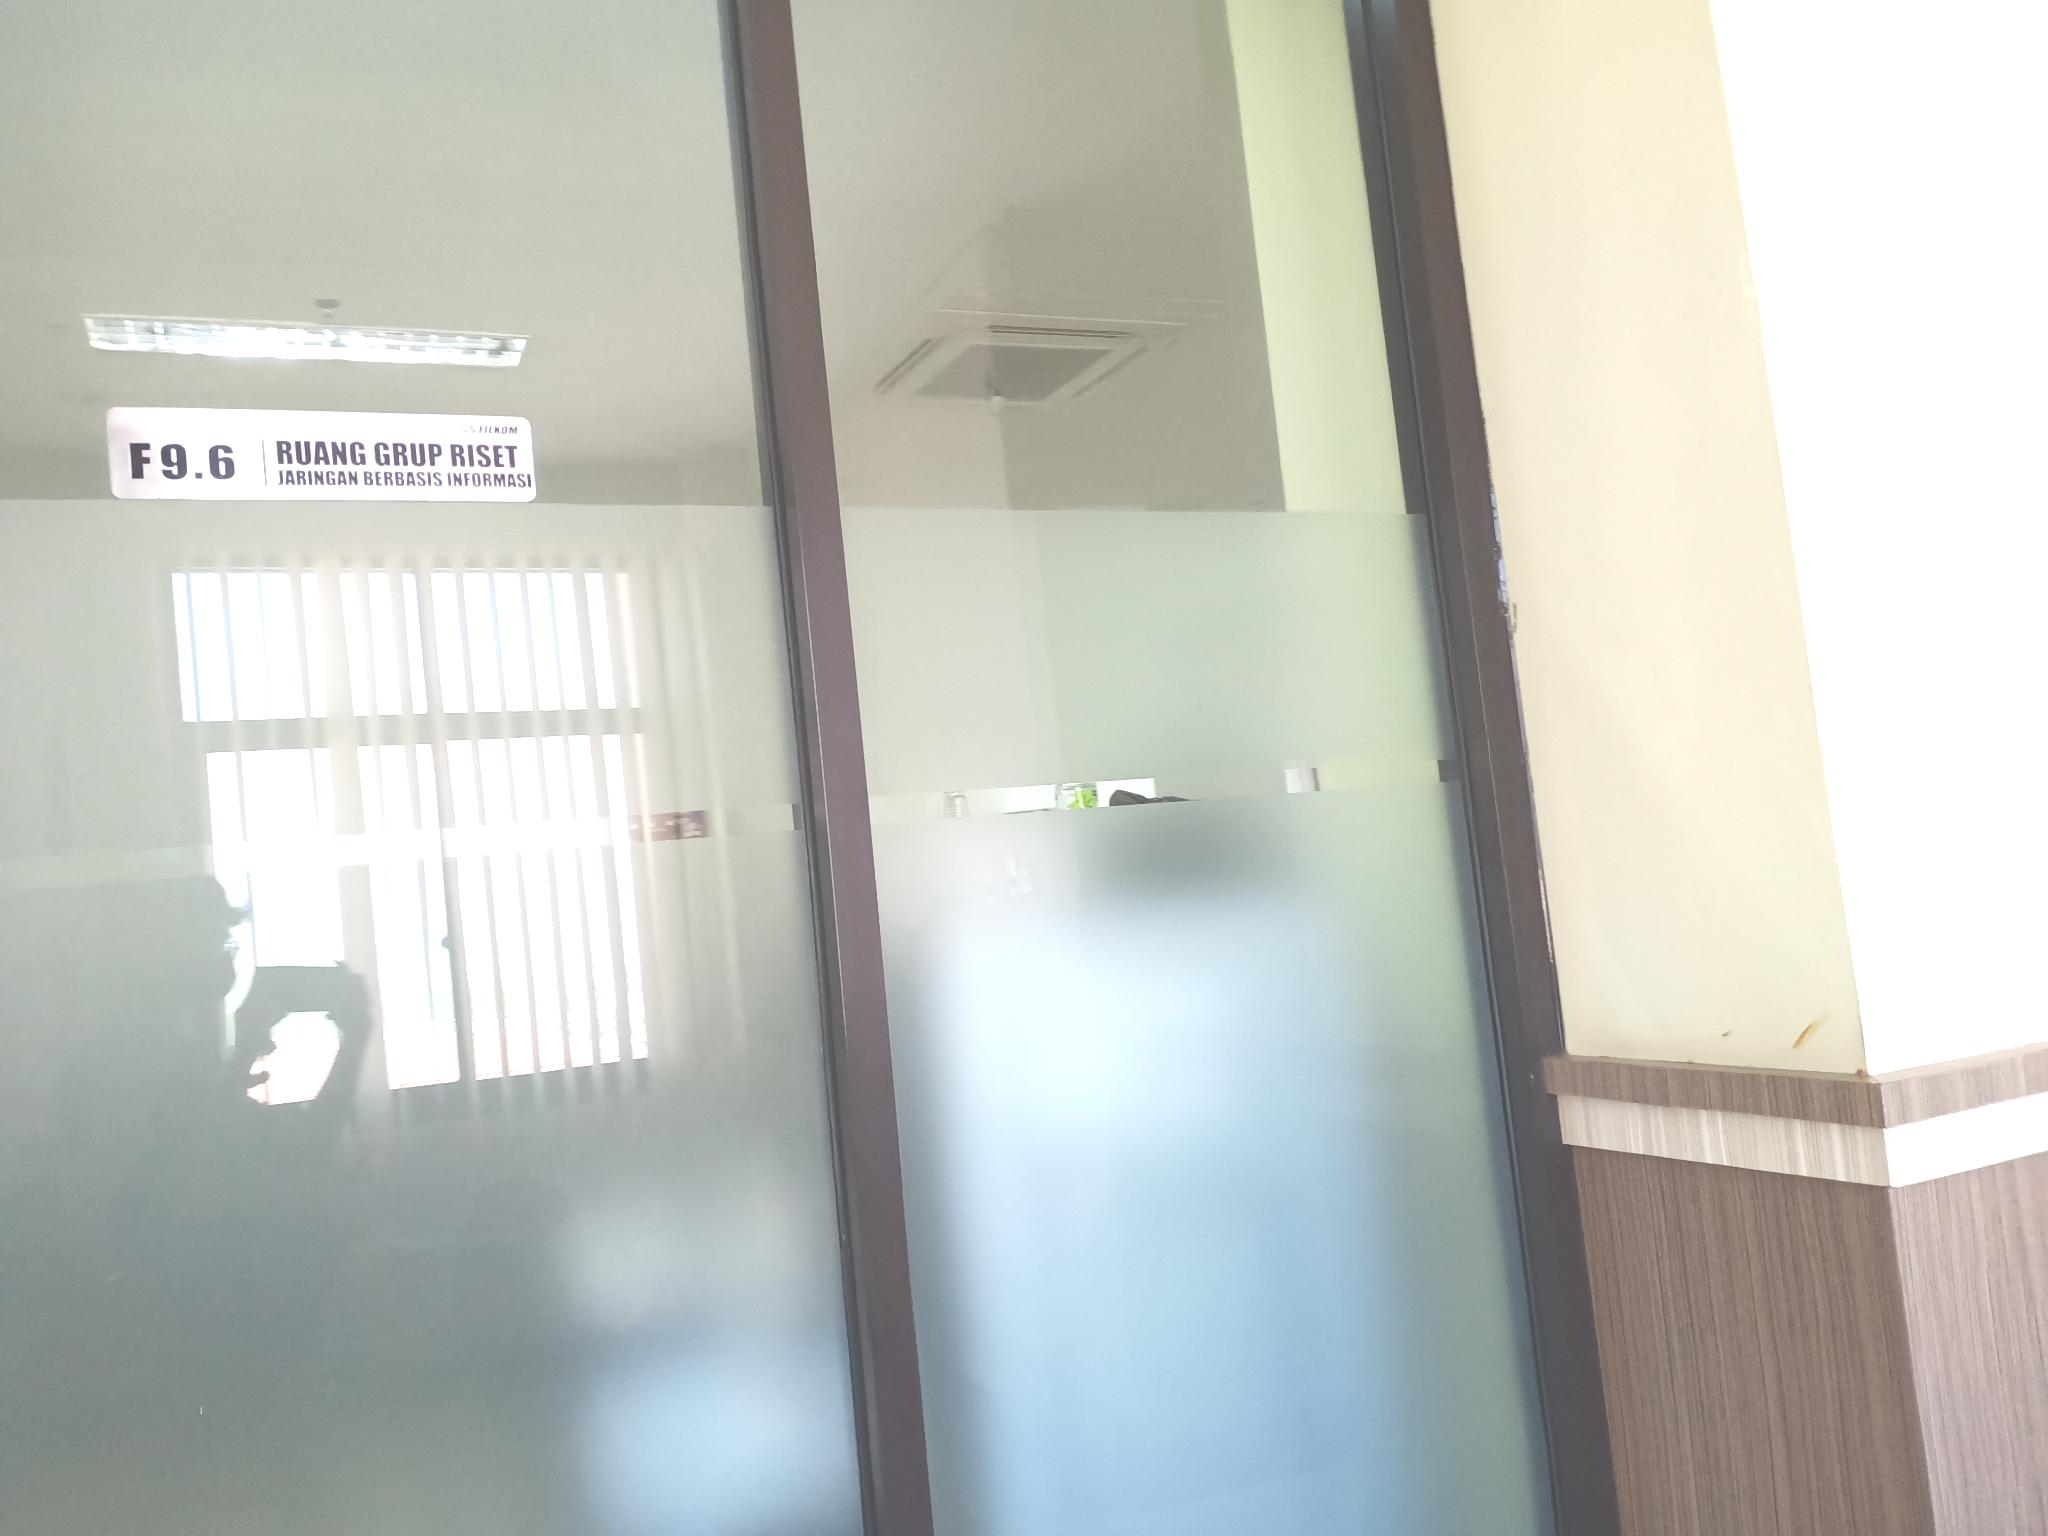plate: (106, 402, 539, 502)
